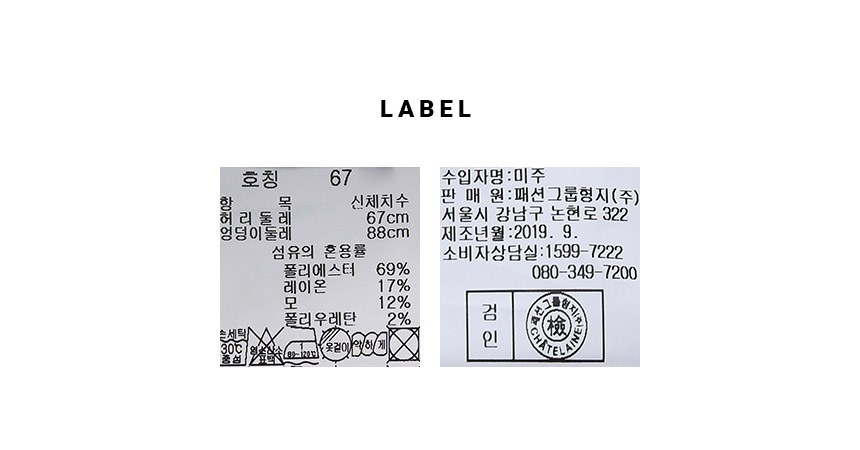KR_gentle_wring: (351, 330, 388, 358)
KR_hand_wash_30_neutral: (219, 325, 248, 367)
KR_hang_dry_in_shade: (319, 325, 352, 366)
KR_iron_low_temp_with_cloth: (286, 326, 319, 366)
KR_no_bleach: (249, 327, 285, 366)
KR_no_tumble_dry: (388, 326, 419, 365)
